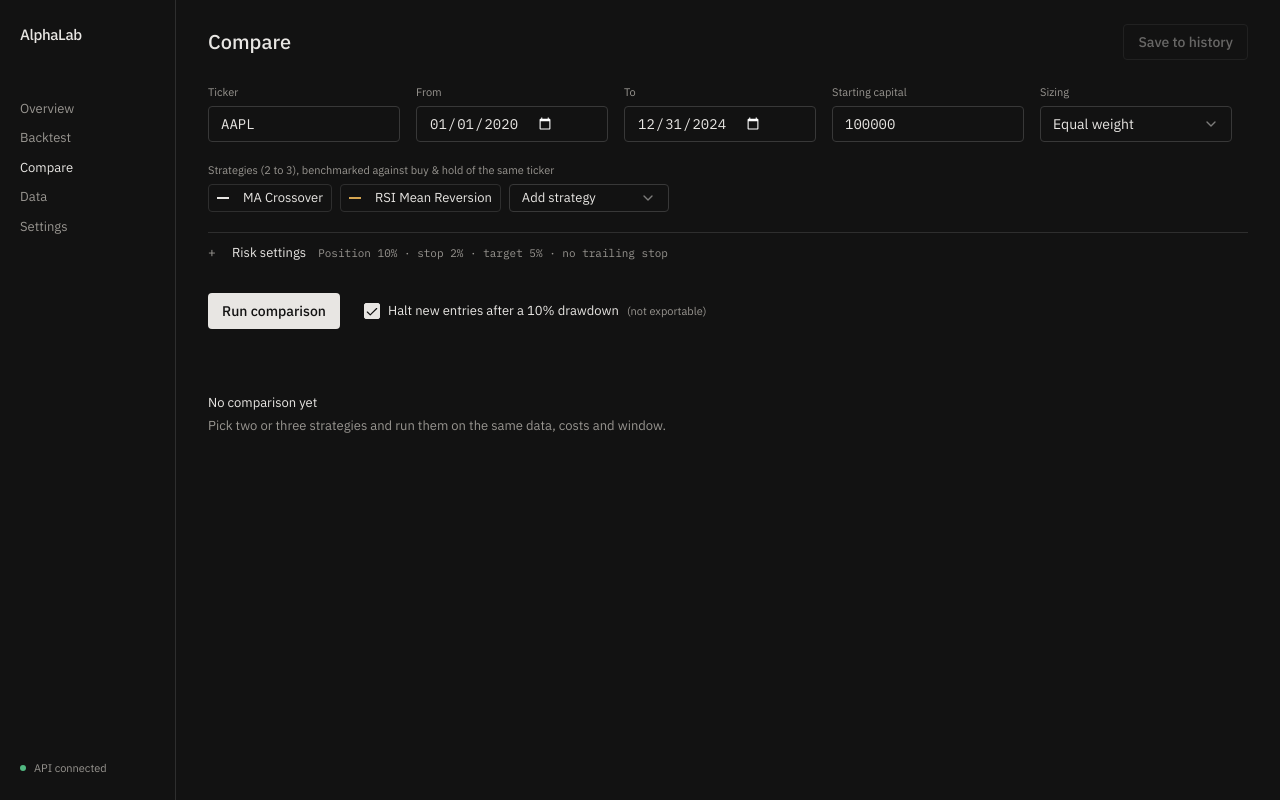
it: shows strategy failures and disables saving when no comparison run succeeds
Press Enter in the dropdown named "Add a strategy", box [509,184,669,212]
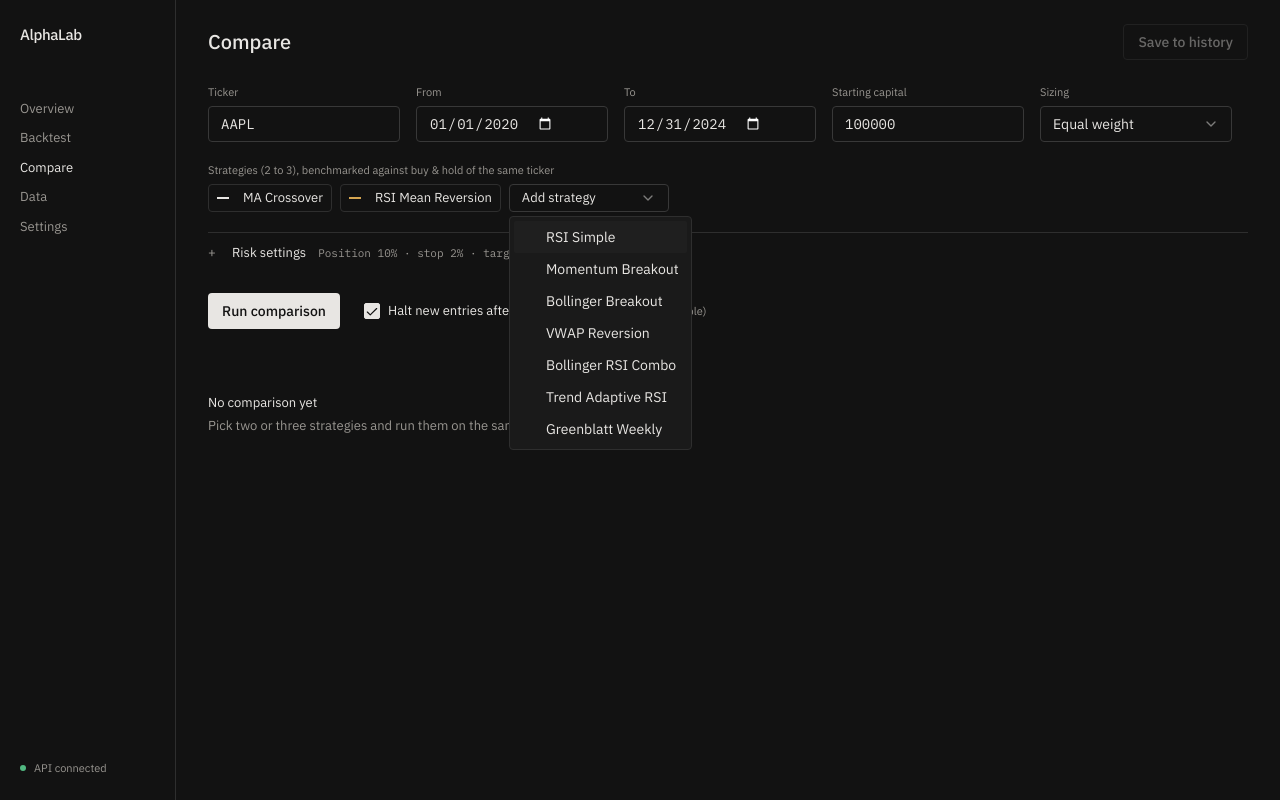
Click the option "Greenblatt Weekly": click(604, 429) [546,420,662,438]
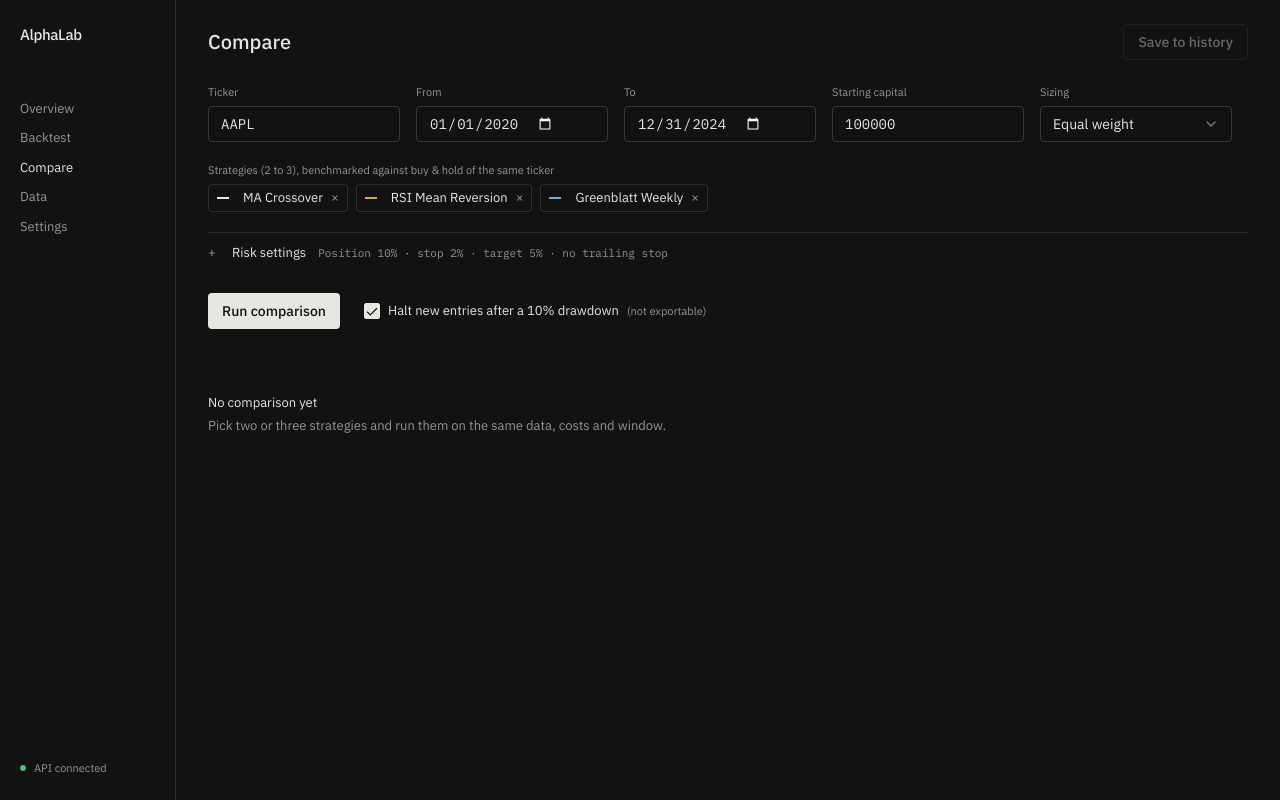
Click the button "Run comparison": click(274, 310) [208,292,340,328]
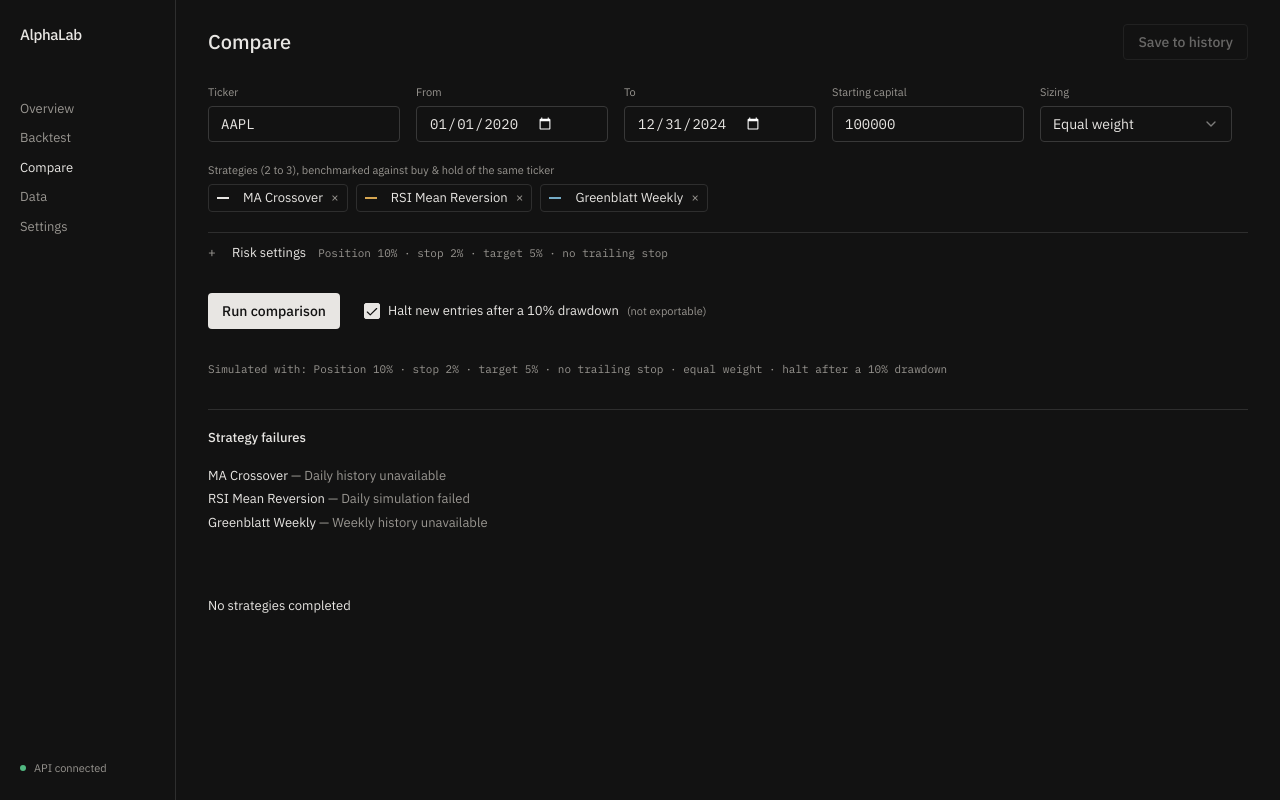
Expected: the text "No strategies completed" is shown, [208,597,351,614]
Expected: the list item "Daily history unavailable" is shown, [304,466,446,484]
Expected: the list item "Daily simulation failed" is shown, [341,490,470,507]
